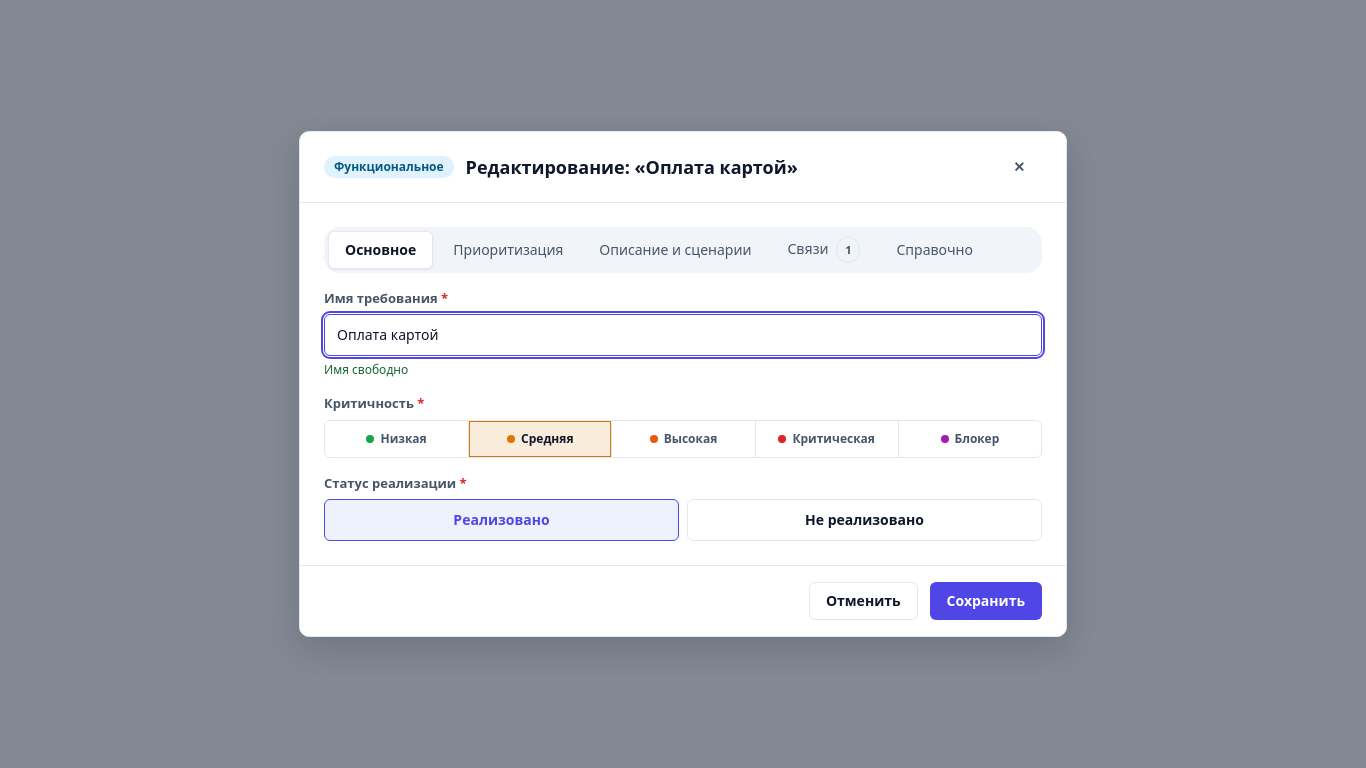
Test: RequirementModal (T-1106, FR-6) › T3: cancelling the inline delete leaves the link intact
This screenshot has width=1366, height=768.
Click the tab with test id "req-tab-links". click: (824,250)
box: [772,231,876,269]
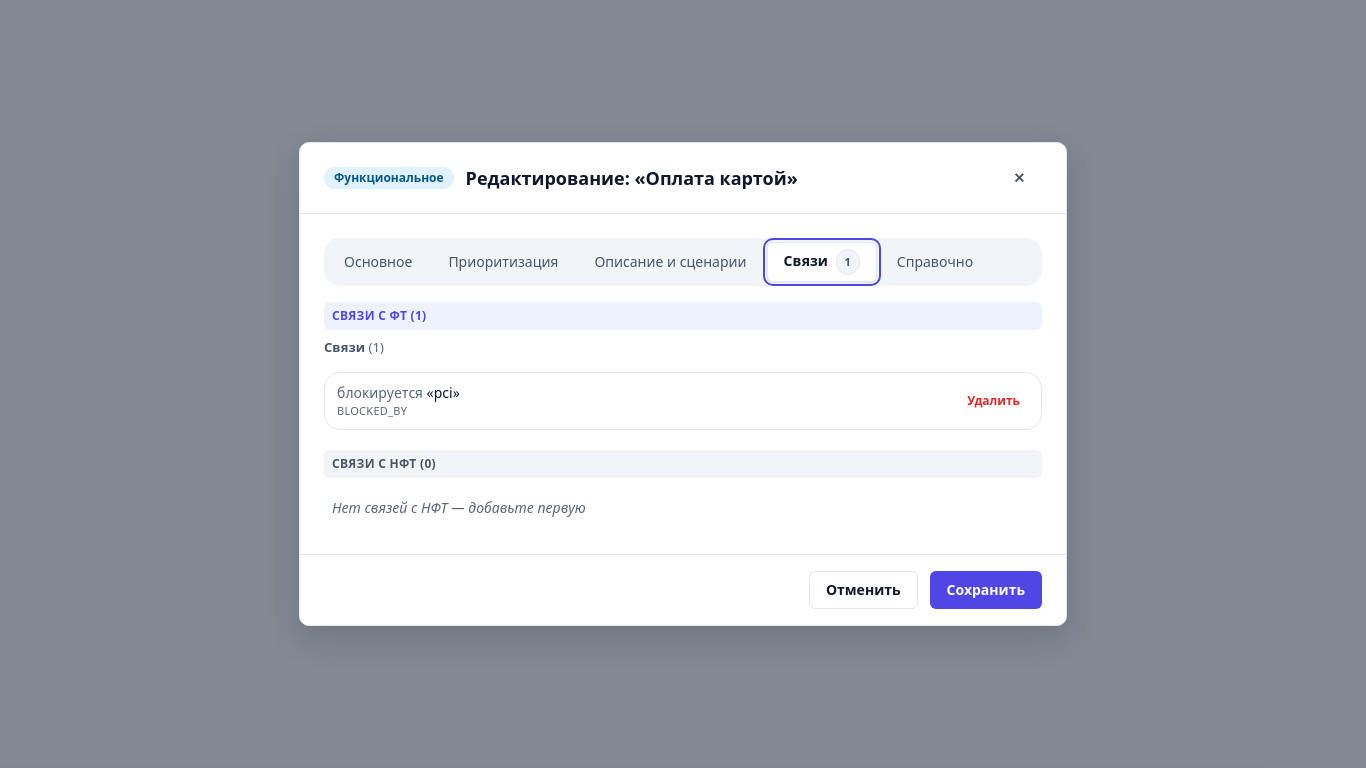
Click the button with test id "req-link-del-pci". click: (994,401)
box: [958,388,1029,414]
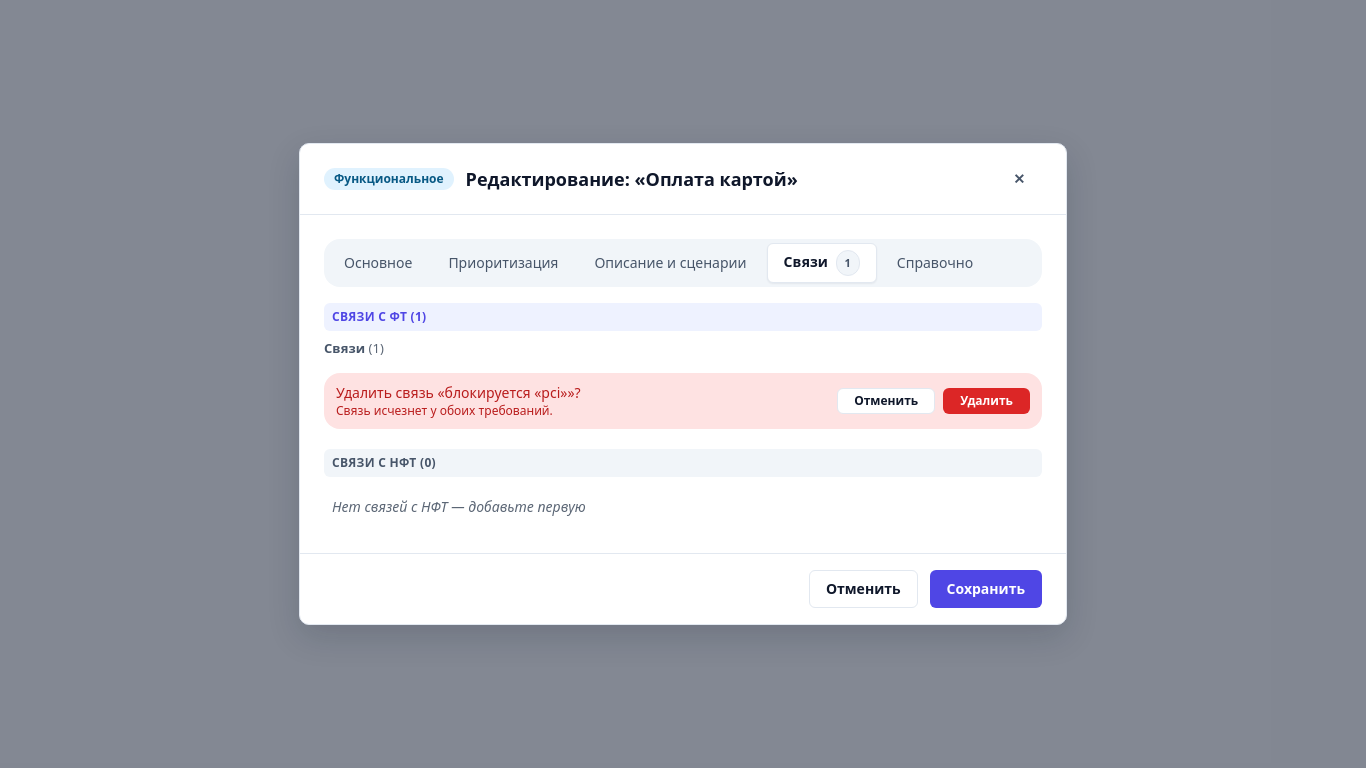
Click the button with test id "req-link-del-cancel". click: (886,401)
box: [837,388,935,414]
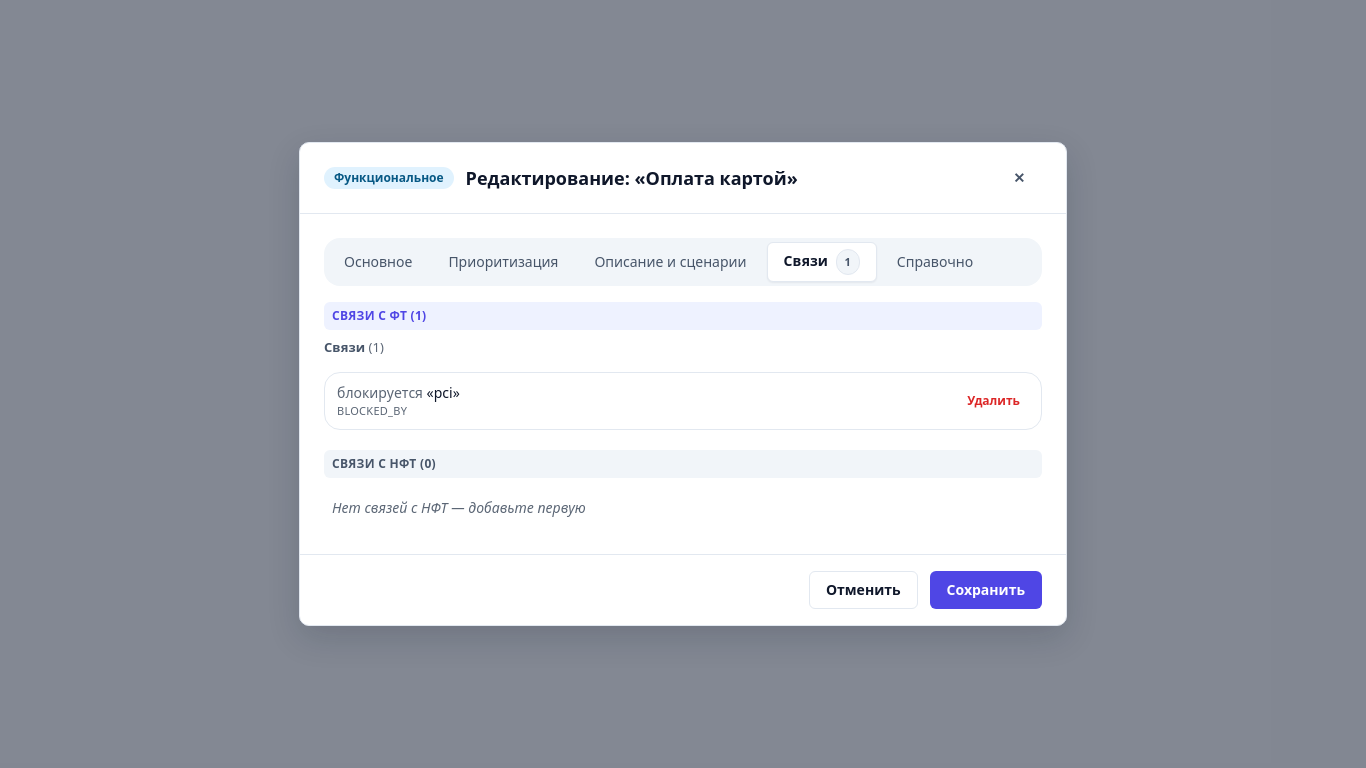
Check: the element with test id "req-link-pci" is shown, box [324,372,1042,430]
Check: the button with test id "req-link-del-confirm" is gone
